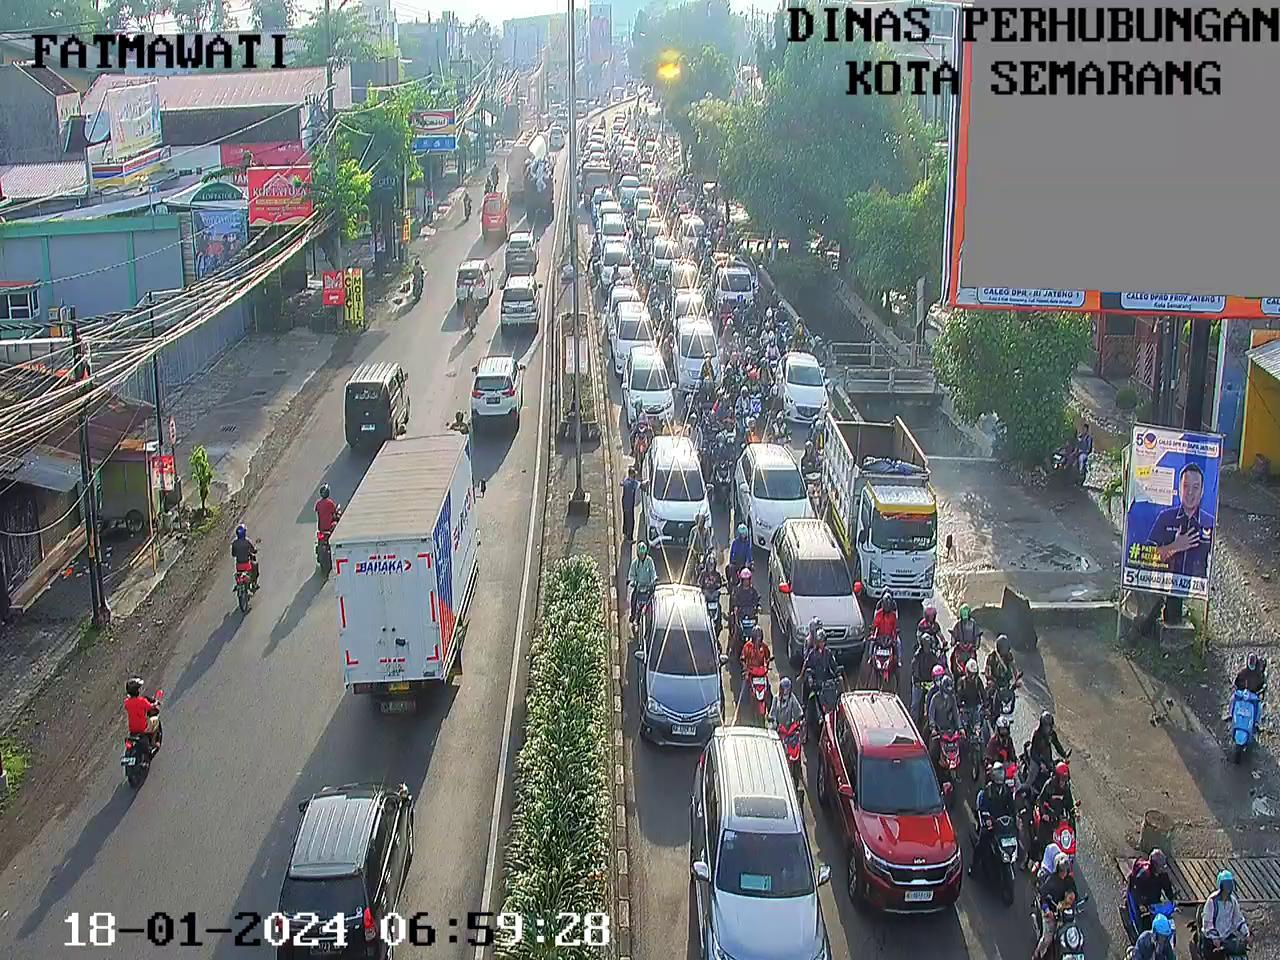car: (810, 672, 963, 923), (685, 718, 834, 960), (758, 512, 874, 666), (638, 577, 728, 751), (736, 433, 822, 559), (639, 427, 714, 552), (619, 344, 679, 429), (604, 301, 666, 381), (670, 314, 727, 394), (777, 344, 834, 424), (707, 249, 755, 313), (604, 284, 648, 339), (646, 237, 694, 280), (597, 240, 641, 285), (667, 289, 714, 333), (665, 257, 707, 302), (643, 216, 676, 253), (676, 210, 708, 249), (735, 254, 763, 295), (592, 214, 632, 242), (632, 203, 666, 235), (630, 184, 667, 212), (612, 172, 643, 206), (590, 201, 628, 227), (589, 189, 622, 216), (674, 186, 697, 210), (641, 138, 663, 158), (610, 132, 634, 147), (638, 161, 656, 177), (583, 147, 606, 159), (588, 125, 607, 138), (586, 136, 608, 147), (619, 145, 639, 157), (612, 122, 628, 135), (614, 111, 629, 123)
motorcycle: (1024, 838, 1098, 960), (1116, 836, 1183, 960), (972, 755, 1024, 912), (918, 659, 969, 812), (1024, 757, 1085, 878), (1187, 865, 1257, 960), (1023, 706, 1077, 822), (800, 616, 850, 743), (978, 626, 1027, 748), (761, 670, 810, 789), (948, 648, 990, 784), (1223, 649, 1267, 765), (732, 620, 778, 725), (983, 712, 1023, 832), (947, 597, 990, 709), (868, 582, 907, 700), (722, 561, 765, 667), (720, 517, 761, 623), (691, 547, 732, 652), (904, 628, 944, 733), (910, 599, 954, 690), (623, 529, 660, 630), (678, 505, 717, 601), (1048, 413, 1092, 496), (621, 394, 658, 482), (703, 426, 738, 510), (794, 436, 827, 513), (803, 409, 833, 481), (731, 382, 757, 444), (806, 329, 830, 389), (694, 350, 721, 405), (681, 410, 708, 466), (765, 408, 793, 452), (772, 294, 793, 351), (758, 329, 781, 380), (717, 314, 741, 361), (678, 387, 703, 433), (712, 393, 737, 438), (744, 370, 765, 423), (712, 289, 732, 343), (787, 310, 808, 354), (623, 214, 643, 255), (765, 358, 781, 409), (656, 302, 672, 352), (726, 347, 742, 395), (584, 234, 601, 278), (648, 279, 663, 322), (635, 250, 652, 287), (764, 284, 783, 318), (615, 194, 634, 225), (606, 262, 626, 289), (743, 301, 757, 339), (727, 328, 743, 358), (630, 239, 644, 273), (741, 342, 755, 371), (734, 292, 748, 322), (699, 273, 715, 301), (697, 243, 710, 273), (661, 186, 674, 212), (577, 120, 589, 147), (684, 236, 699, 257), (729, 229, 743, 250), (667, 210, 679, 233), (719, 218, 729, 241), (706, 206, 718, 225), (702, 228, 714, 248), (697, 187, 707, 208), (613, 159, 623, 177), (685, 170, 696, 187), (633, 120, 644, 135), (644, 123, 653, 139), (659, 172, 668, 189), (644, 105, 651, 125), (610, 148, 620, 162), (639, 176, 656, 185), (655, 152, 666, 164), (671, 171, 680, 186), (597, 114, 608, 125), (624, 159, 635, 169), (634, 136, 643, 147), (635, 106, 642, 119), (626, 103, 632, 118)
truck: (825, 416, 956, 605), (581, 158, 615, 209)
